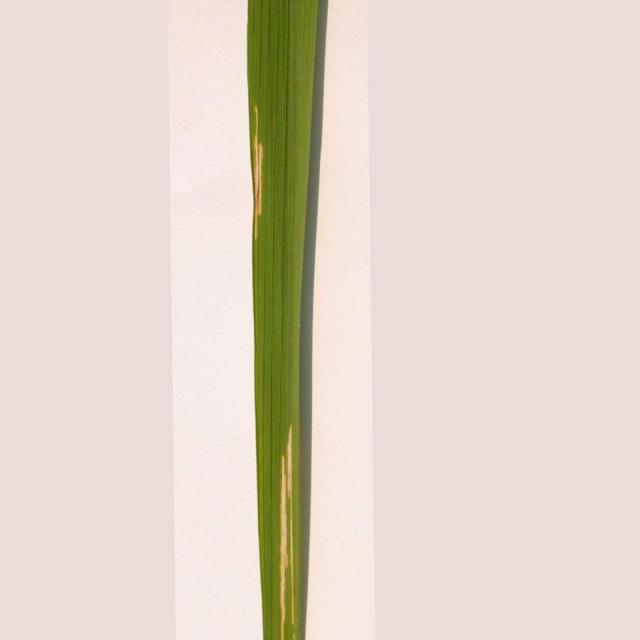Bacterial_Leaf_Blight: (280, 426, 294, 640), (251, 106, 264, 239)
